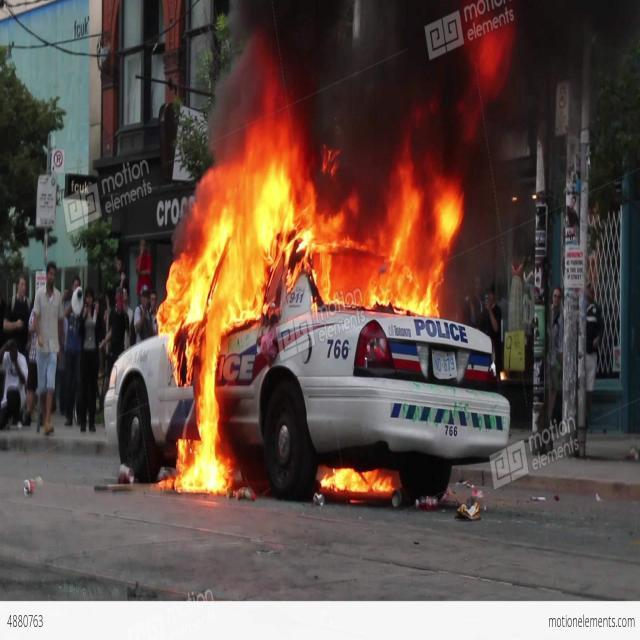Fire: (168, 156, 460, 488)
Smoke: (219, 20, 559, 208)
